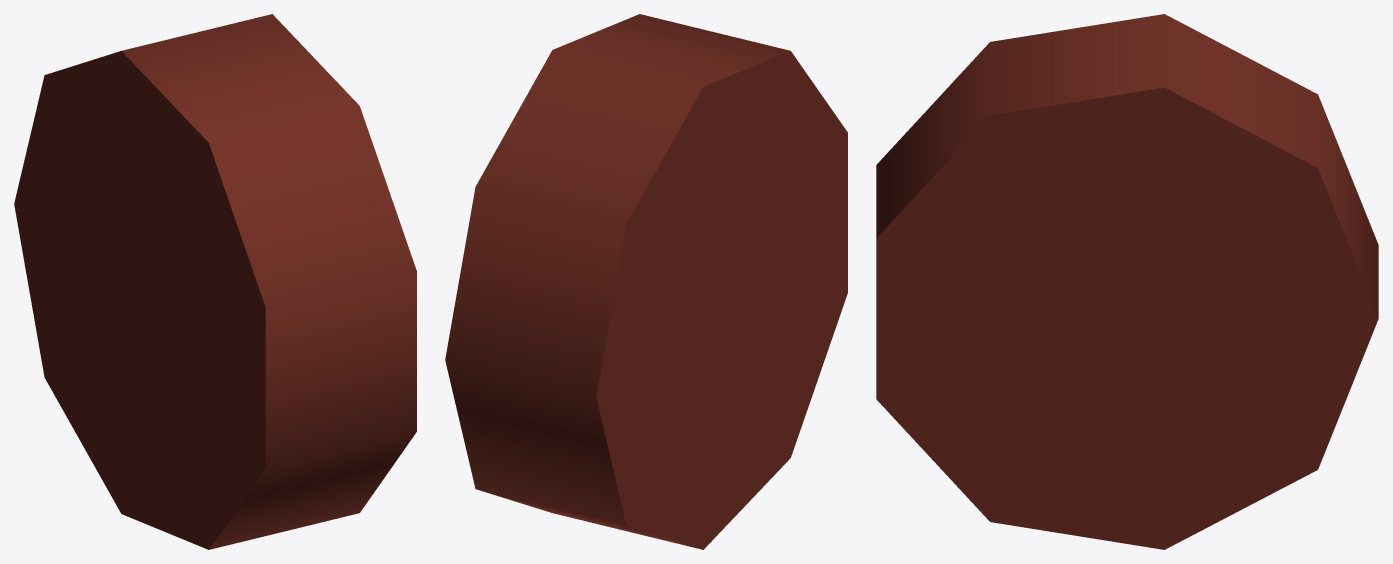
Rendered from Pipe_1_E_4.fbx.
3 renders of one model, left to right at view 1: azimuth 30°, elevation 25°; view 2: azimuth 150°, elevation 25°; view 3: azimuth 270°, elevation 25°, orthographic.
Parts seen in each view (by area): view 1: Pipe_1_E_4; view 2: Pipe_1_E_4; view 3: Pipe_1_E_4.
Boxes of the visible parts, x1=… form: Pipe_1_E_4: x1=14, y1=14, x2=416, y2=549; Pipe_1_E_4: x1=445, y1=14, x2=847, y2=549; Pipe_1_E_4: x1=876, y1=14, x2=1378, y2=549.
Size of the model in its own units: 10.28 by 30.12 by 29.66.
